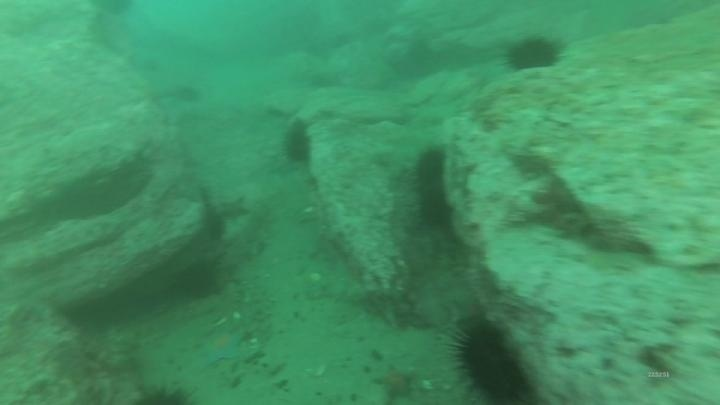echinus: (447, 317, 535, 404), (502, 32, 565, 75), (173, 257, 224, 303), (279, 117, 316, 169), (413, 142, 457, 185), (127, 380, 197, 405), (420, 183, 459, 227)
starfish: (197, 324, 248, 367), (370, 362, 419, 404), (450, 292, 490, 328)
